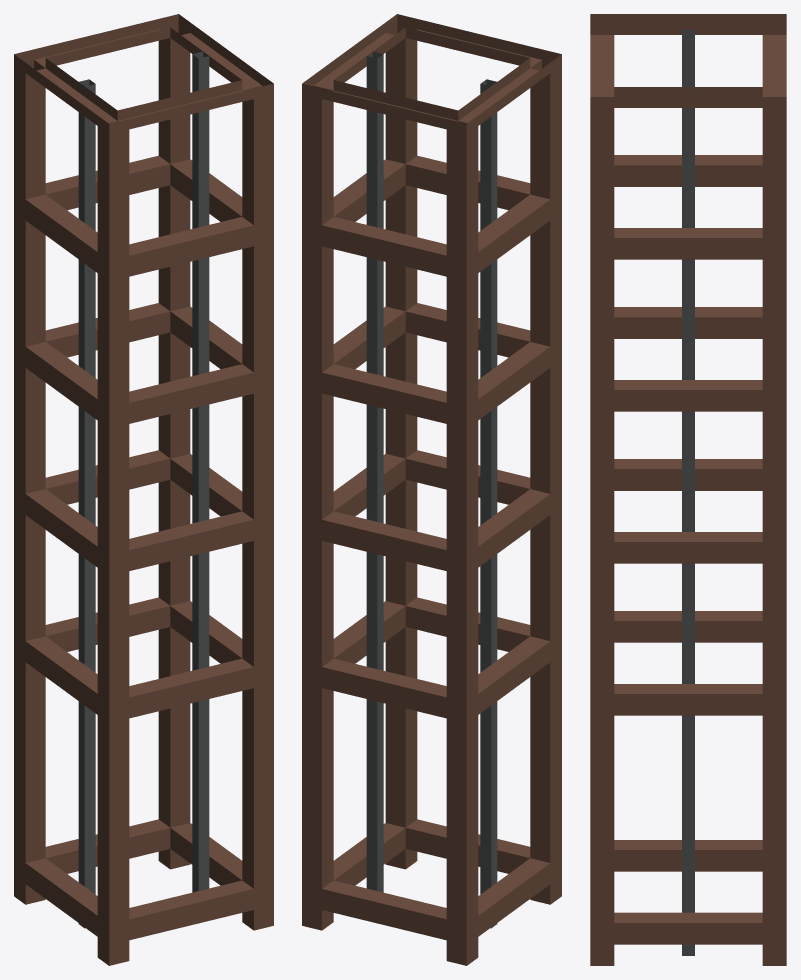
Rendered from Lift Frame.fbx.
3 renders of one model, left to right at view 1: azimuth 30°, elevation 25°; view 2: azimuth 150°, elevation 25°; view 3: azimuth 270°, elevation 25°, orthographic. The views are drawn at different scales.
Visible parts, largest first — view 1: Elevator Frame; view 2: Elevator Frame; view 3: Elevator Frame.
Part boxes in pixels (left/top/right/bottom): Elevator Frame: left=14, top=14, right=273, bottom=965; Elevator Frame: left=302, top=14, right=561, bottom=965; Elevator Frame: left=590, top=14, right=786, bottom=965.
Size of the model in its own units: 307 by 1501 by 308.
